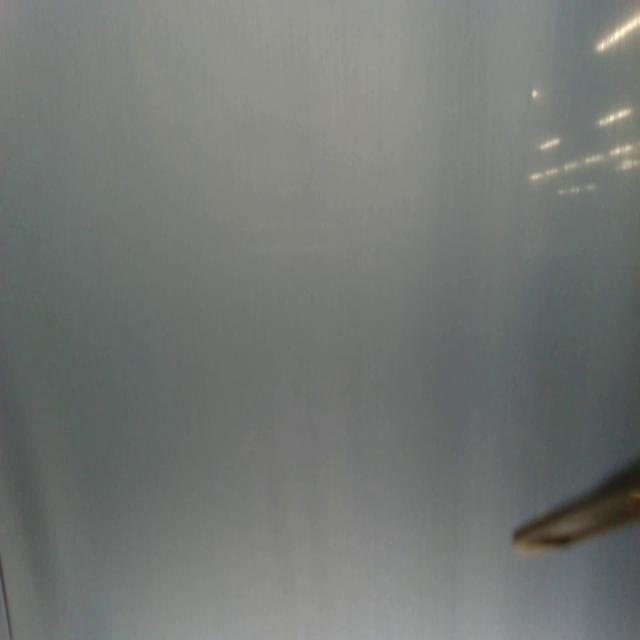crease: (0, 554, 16, 640)
